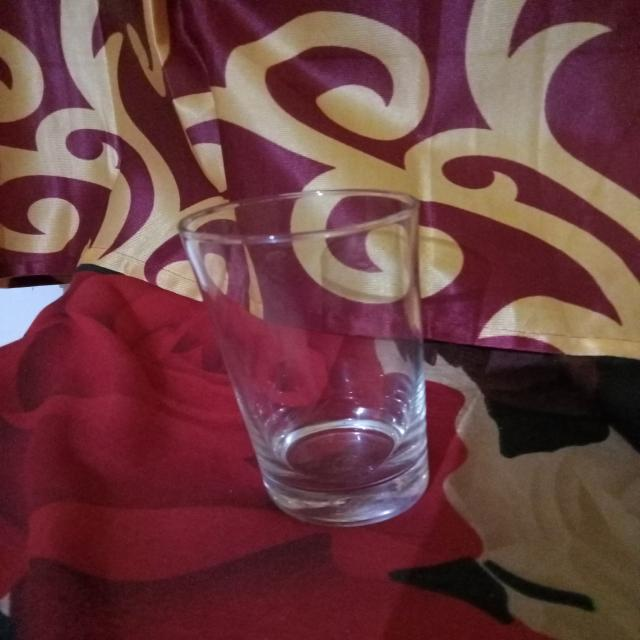Glass: (176, 186, 437, 530)
